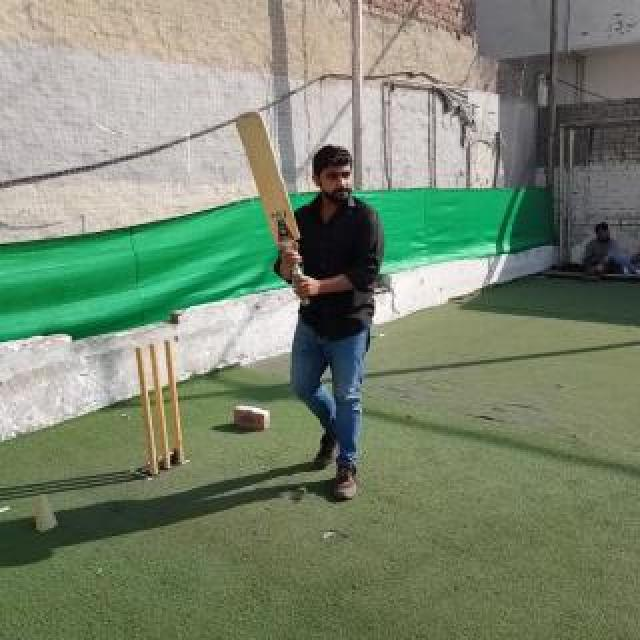bat: (235, 110, 309, 306)
